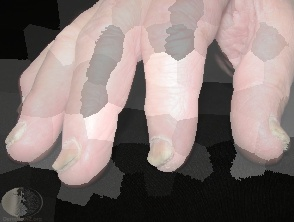Nail_psoriasis: (48, 134, 91, 179), (260, 111, 294, 157), (144, 134, 182, 173), (0, 116, 34, 153)
